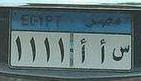1: (13, 33, 24, 62), (28, 35, 38, 63), (43, 36, 53, 63), (57, 36, 66, 65)
alif: (97, 37, 108, 67), (78, 36, 88, 65)
seen: (109, 39, 131, 65)
